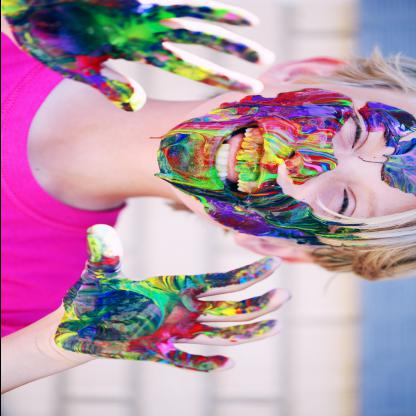Eye: (336, 110, 382, 152), (321, 184, 365, 224)
Mouth: (200, 121, 270, 199)
Nose: (275, 144, 349, 184)
